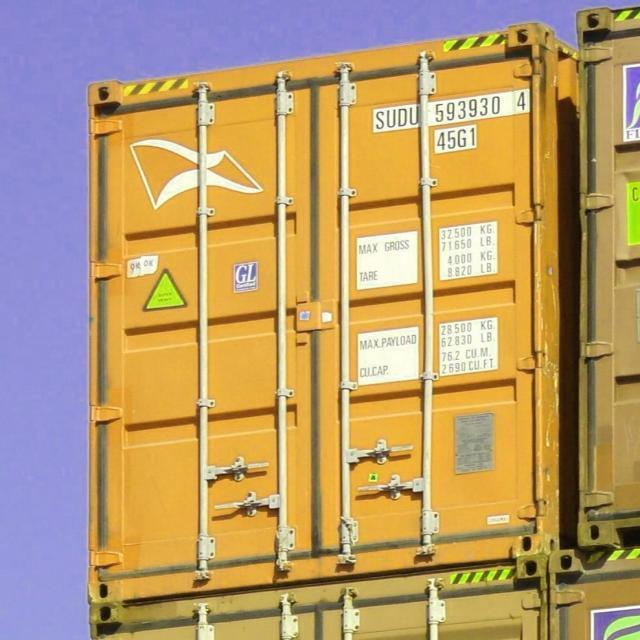ISO: (432, 128, 486, 150)
container_number: (378, 88, 530, 126)
